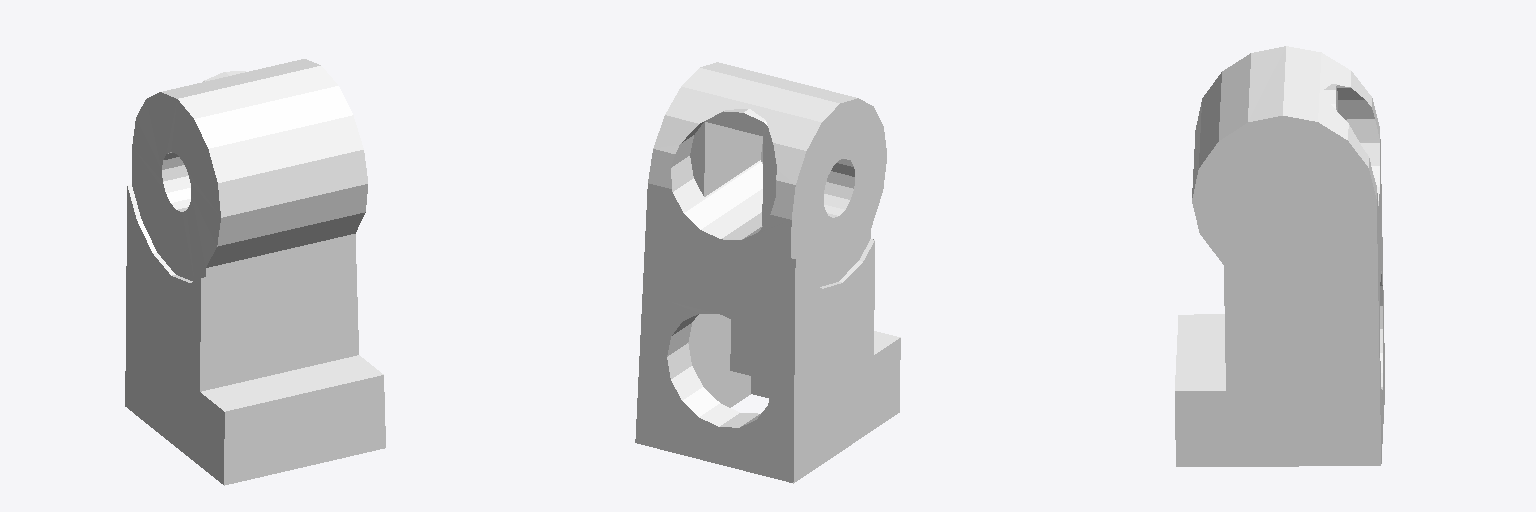
3 views of the same model, side by side, from view 1: azimuth 30°, elevation 25°; view 2: azimuth 150°, elevation 25°; view 3: azimuth 270°, elevation 25° (orthographic).
Parts seen in each view (by area): view 1: piernaIzqMarge; view 2: piernaIzqMarge; view 3: piernaIzqMarge.
Boxes of the visible parts, x1,y1,x2,y2 form: piernaIzqMarge: [125, 59, 385, 485]; piernaIzqMarge: [635, 62, 900, 483]; piernaIzqMarge: [1175, 46, 1384, 466].
Size of the model in its own units: 1.1 by 2.23 by 1.23.
1 materials, 1 textured.